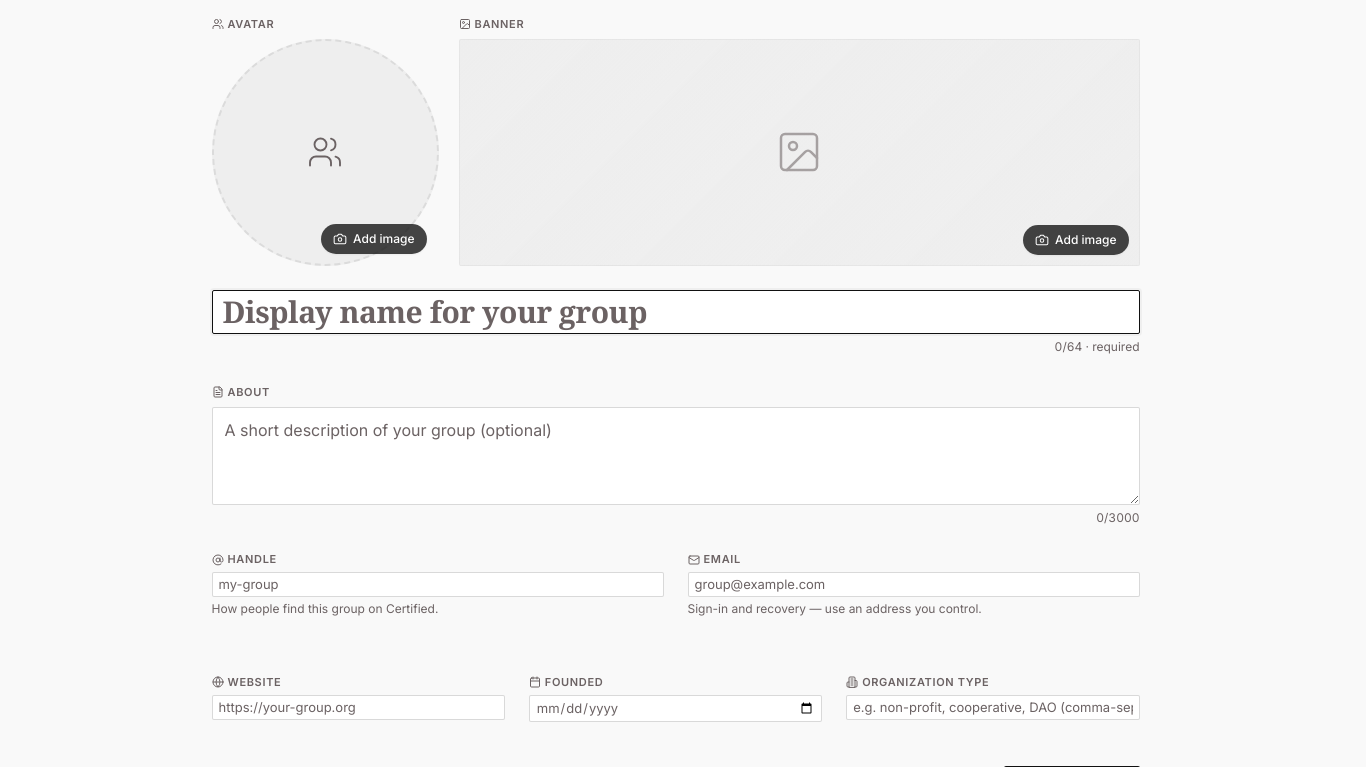
it: CreateGroupPage email validation › clears the error once a valid email is entered
# First make it invalid so the error is showing.
Type "bad" into the field named "Group email" at (914,585), box [688,572,1140,597]
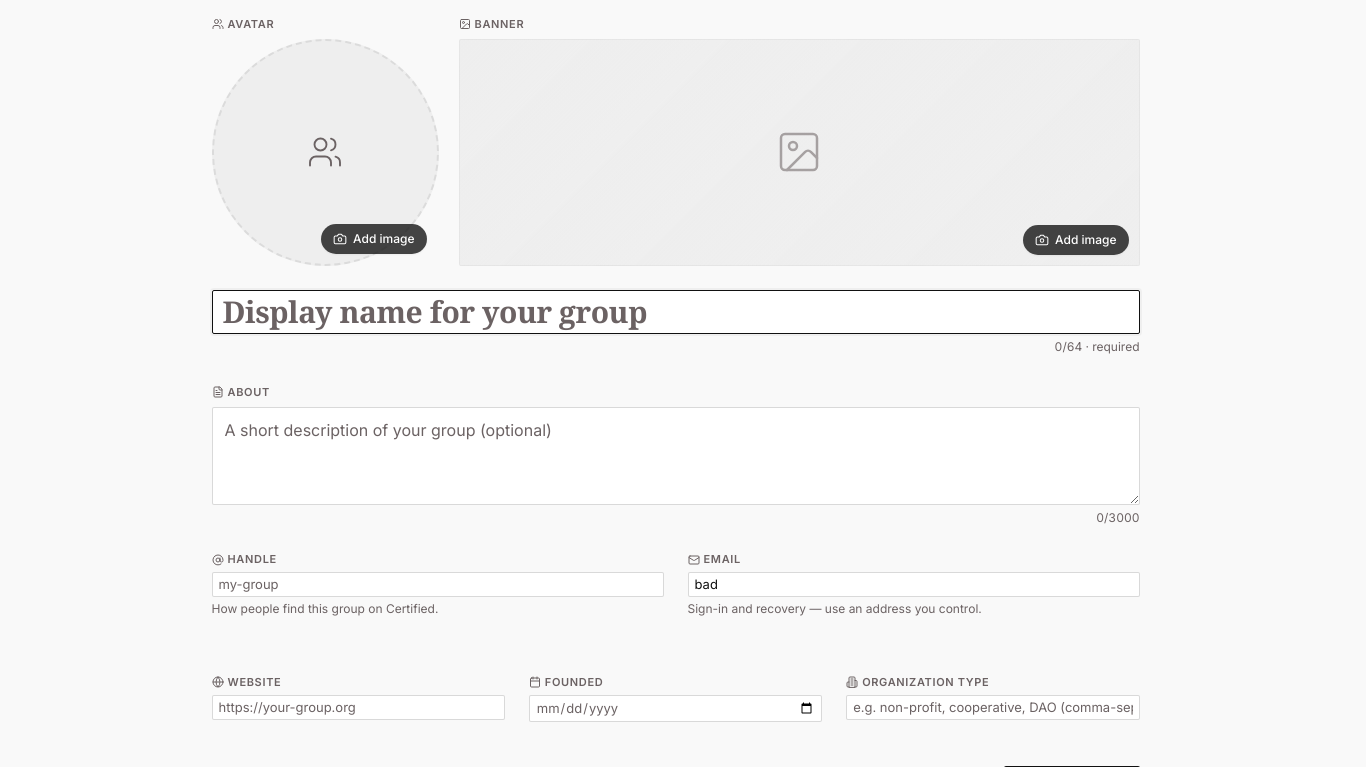
Leave the field named "Group email", box [688,572,1140,597]
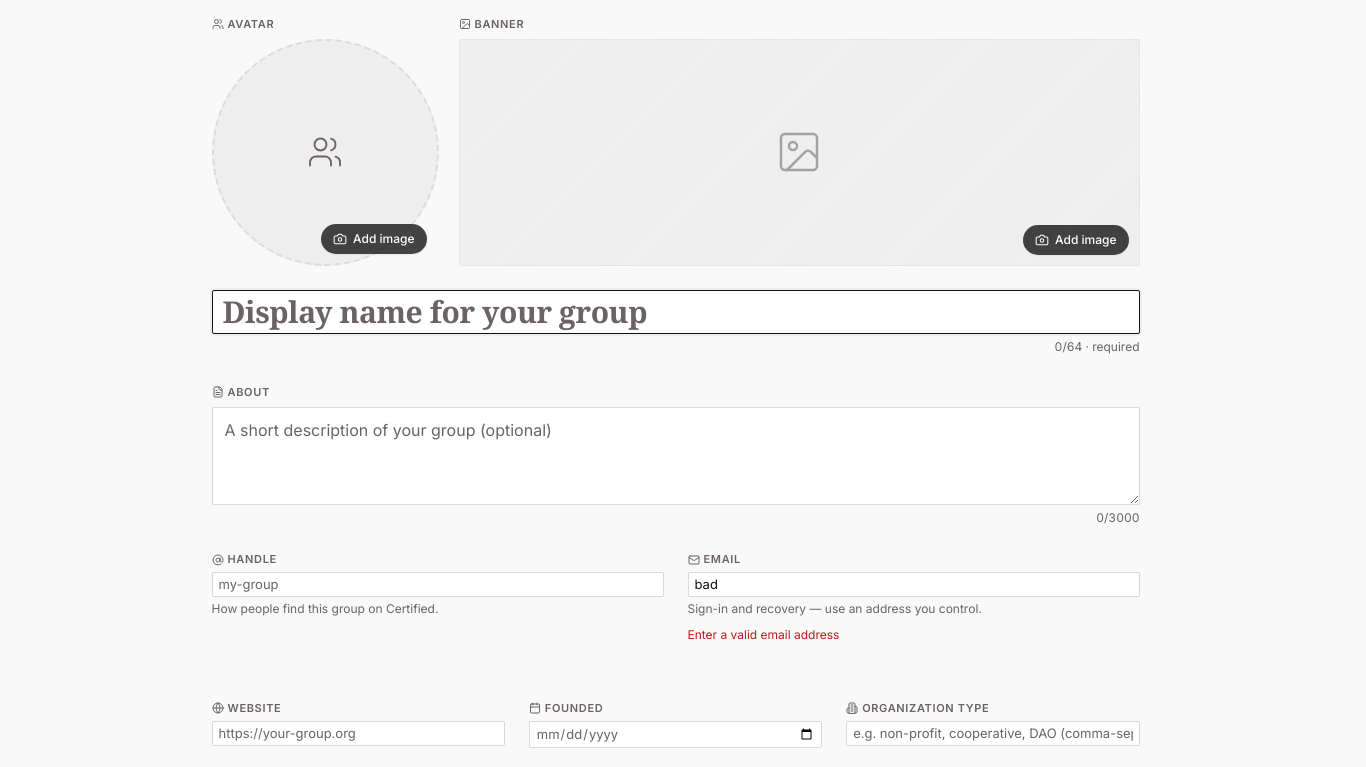
Expected: the text "Enter a valid email address" is shown, [688,627,839,642]
# Typing a valid address re-validates (because emailError is set) and clears it.
Replace the text in the field named "Group email" with "group@example.com" at (914,585), box [688,572,1140,597]
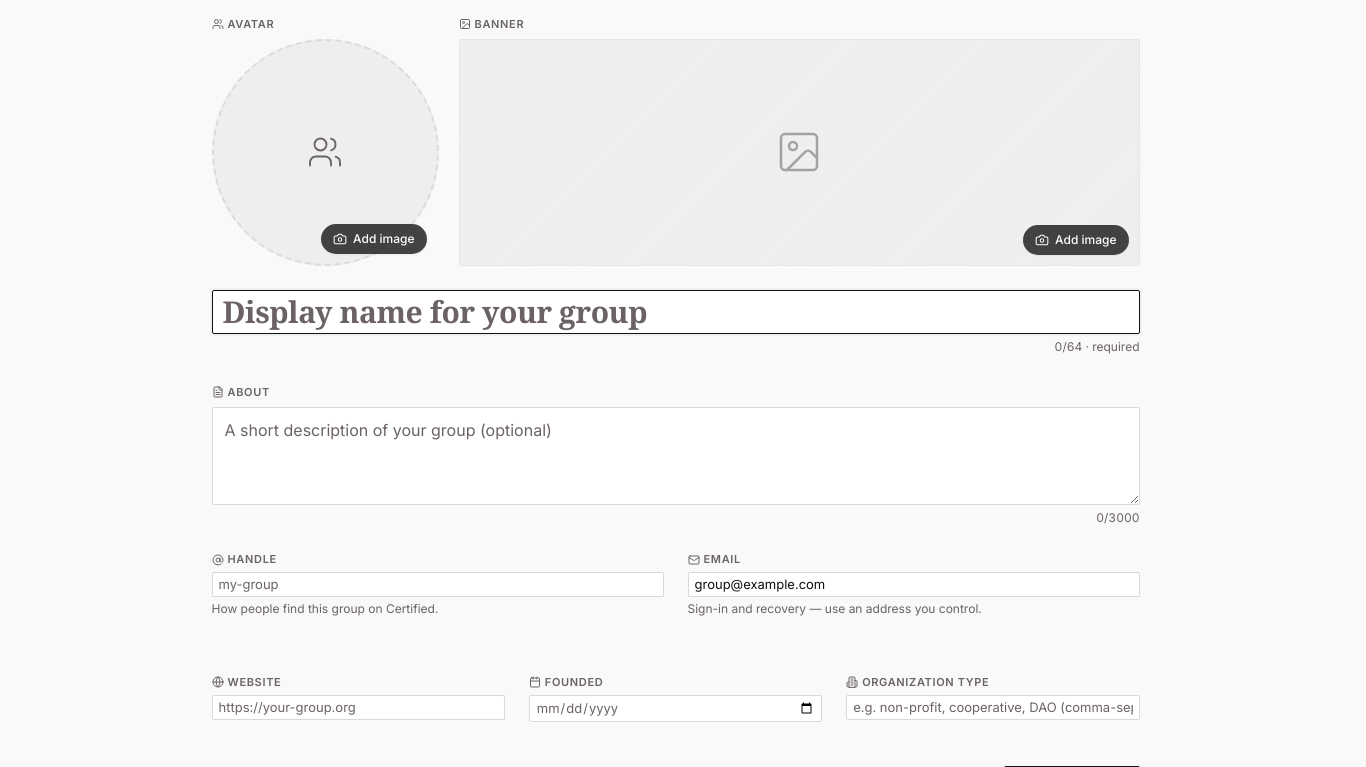
Expected: the text "Enter a valid email address" is gone
